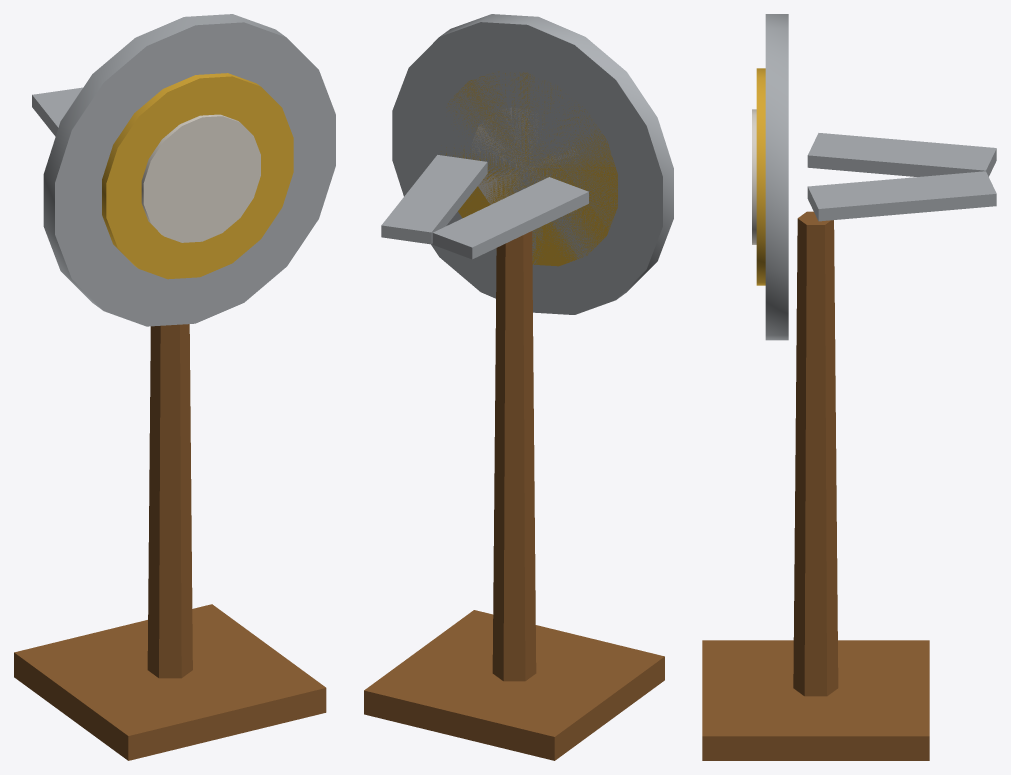
File: silver_rosette.glb
3 views of the same model, side by side, from view 1: azimuth 30°, elevation 25°; view 2: azimuth 150°, elevation 25°; view 3: azimuth 270°, elevation 25° (orthographic). The views are drawn at different scales.
Parts seen in each view (by area): view 1: decor-silver_rosette; view 2: decor-silver_rosette; view 3: decor-silver_rosette.
Boxes of the visible parts, <box> form: decor-silver_rosette: <box>14,14,335,760</box>; decor-silver_rosette: <box>364,14,673,760</box>; decor-silver_rosette: <box>702,14,996,760</box>.
Size of the model in its own units: 0.7091 by 1.66 by 0.6479.
